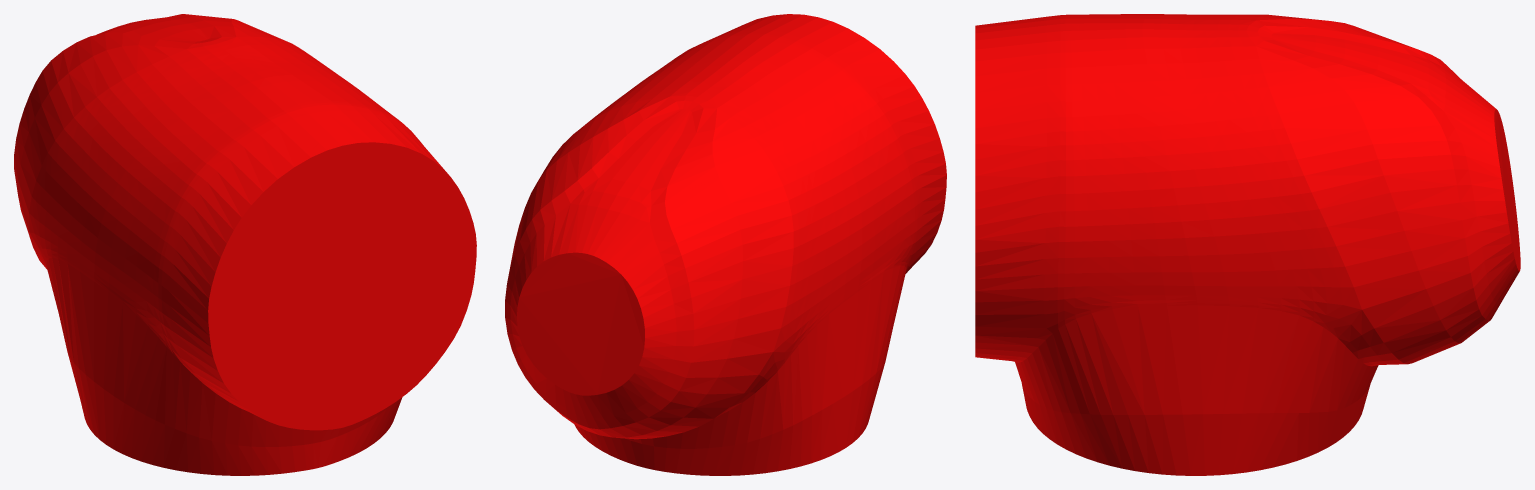
The picture shows the model from 3 angles, left to right: view 1: azimuth 30°, elevation 25°; view 2: azimuth 150°, elevation 25°; view 3: azimuth 270°, elevation 25°; orthographic projection. The views are drawn at different scales.
Visible parts, largest first — view 1: MF0617_4_1; view 2: MF0617_4_1; view 3: MF0617_4_1.
Part boxes in pixels (<box>): MF0617_4_1: <box>14,14,476,475</box>; MF0617_4_1: <box>505,14,946,475</box>; MF0617_4_1: <box>975,14,1520,475</box>.
Bounding box in the file's own units: 109 × 164 × 124.
